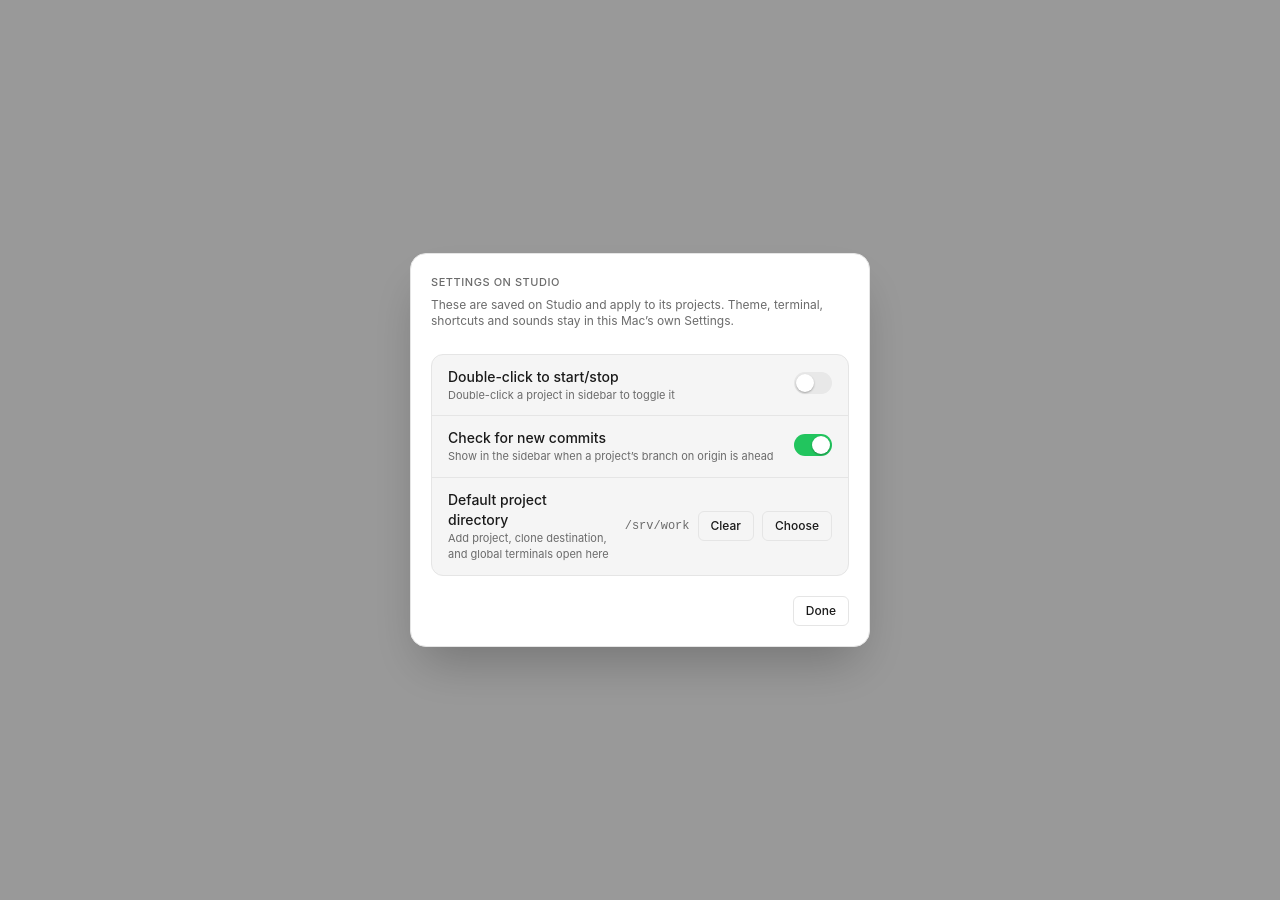
PeerSettingsModal › clears the default folder back to unset
The width and height of the screenshot is (1280, 900).
Click the button "Clear" at [726, 526], box [698,511,754,541]
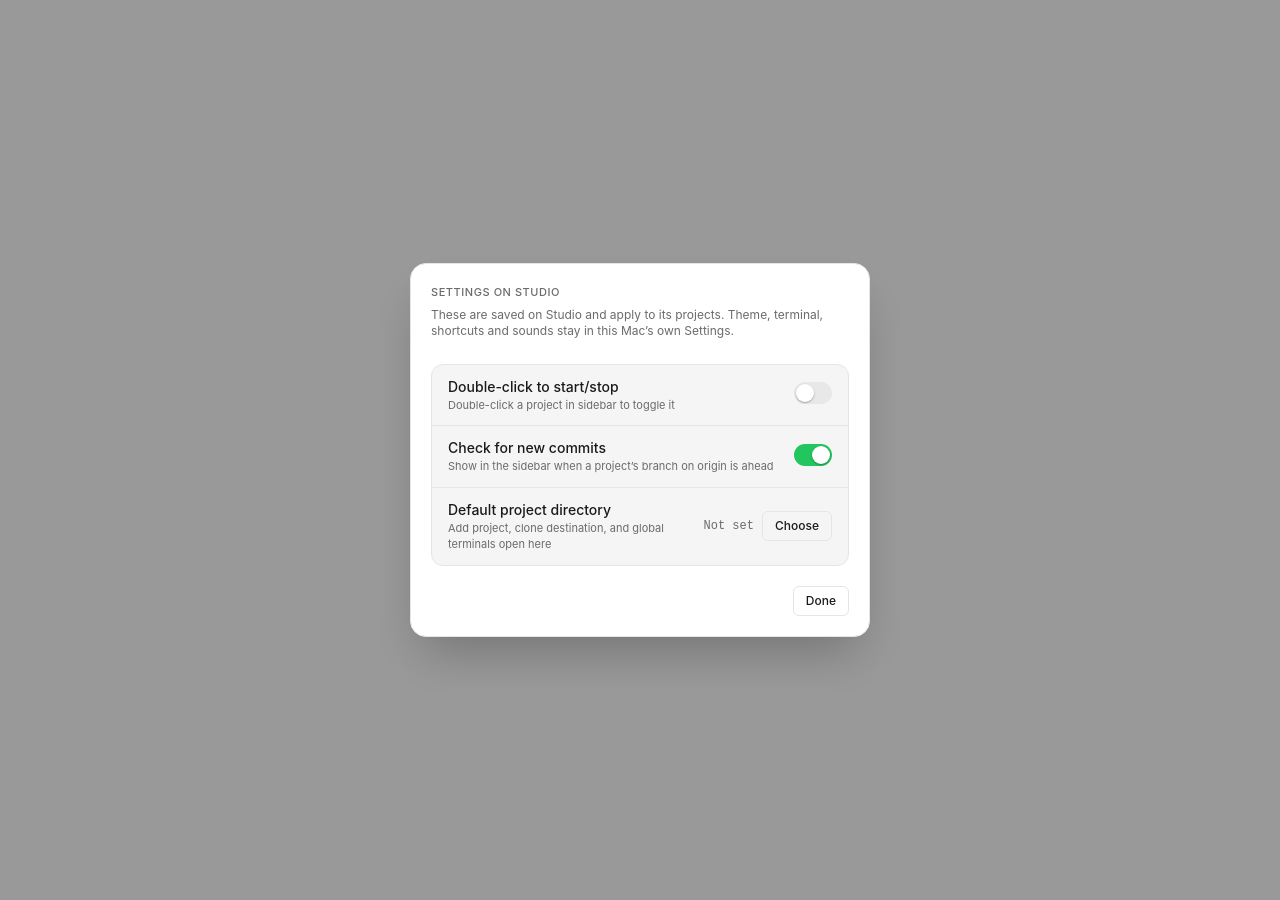
Expected: the text "Not set" is shown, [704,518,754,534]
